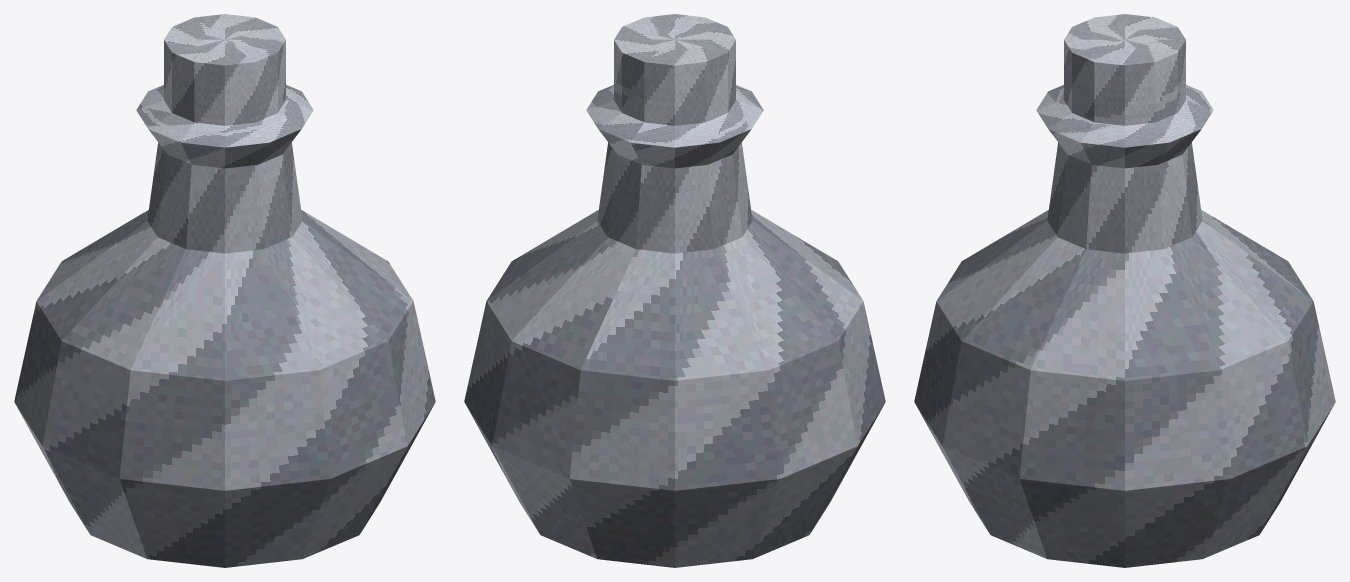
File: pocao_de_pele_de_pedra.glb
3 views of the same model, side by side, from view 1: azimuth 30°, elevation 25°; view 2: azimuth 150°, elevation 25°; view 3: azimuth 270°, elevation 25° (orthographic).
Parts seen in each view (by area): view 1: pocao_de_pele_de_pedra; view 2: pocao_de_pele_de_pedra; view 3: pocao_de_pele_de_pedra.
Boxes of the visible parts, box(x1,y1,x2,y2) form: pocao_de_pele_de_pedra: box(14, 14, 435, 567); pocao_de_pele_de_pedra: box(464, 14, 885, 567); pocao_de_pele_de_pedra: box(914, 14, 1335, 567).
Bounding box in the file's own units: 0.1824 × 0.2304 × 0.1824.
Materials: 1 (1 with a texture image).
